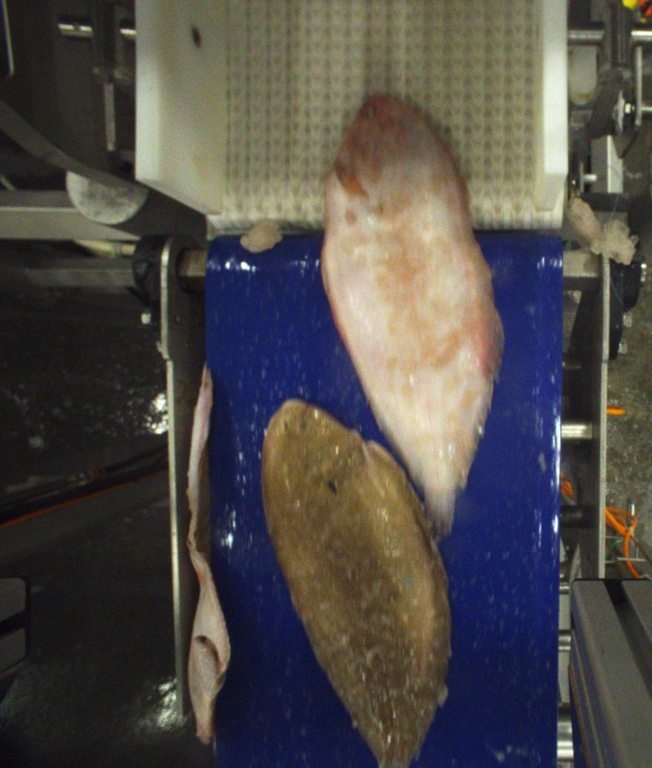SOL: (262, 400, 451, 765)
